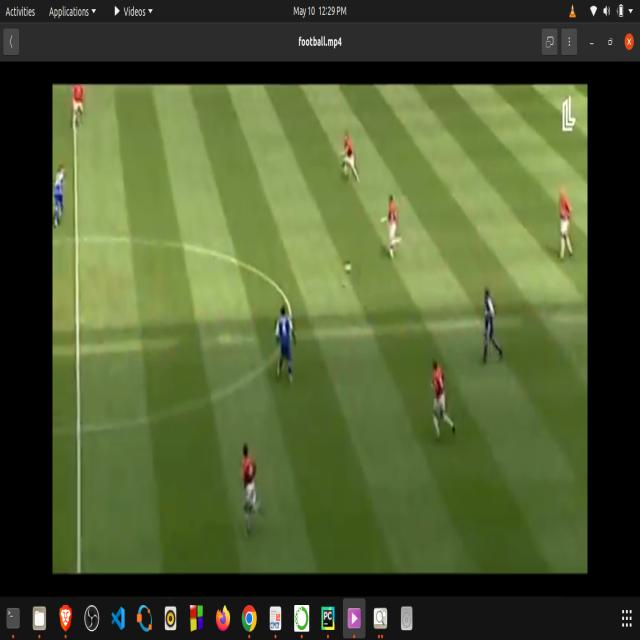Ball: (343, 263, 357, 278)
football-players: (237, 438, 269, 547), (429, 346, 462, 437), (273, 299, 303, 390), (478, 284, 506, 356), (382, 191, 407, 267), (50, 158, 70, 234), (66, 88, 95, 138), (556, 185, 572, 263), (341, 131, 360, 176)
